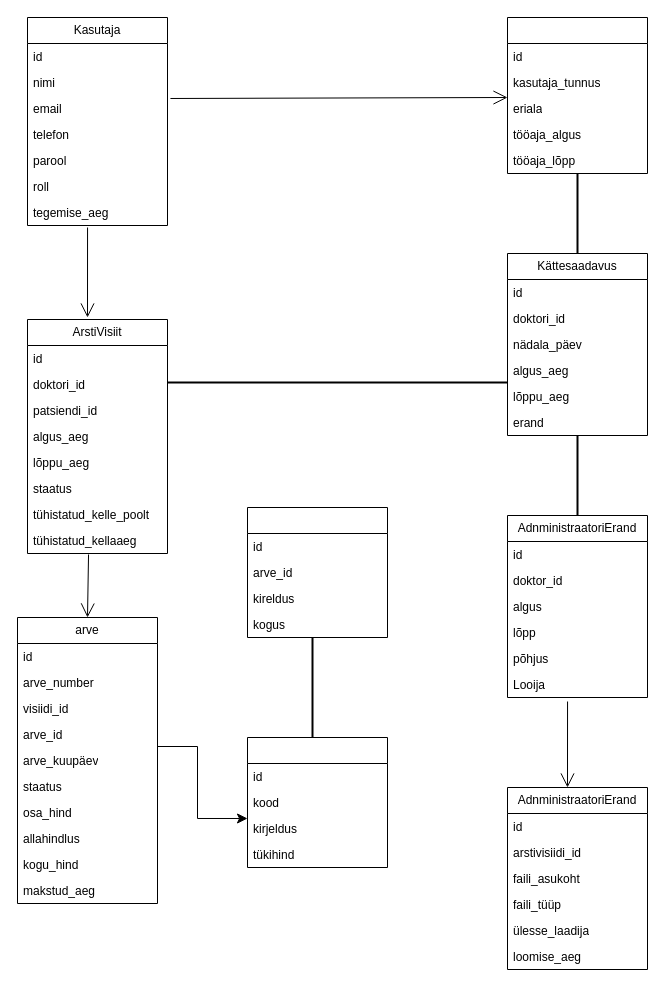
The diagram is 665 pixels wide and 990 high, and some of its shapes have lost their labels. The shapes that lost their labels are listed below. From the top down, each one's box as (x1, y1, x2, y2) in pixels, then its label:
(506, 16, 648, 174): Doktor
(246, 506, 388, 638): ArveRida
(246, 736, 388, 868): teenus
